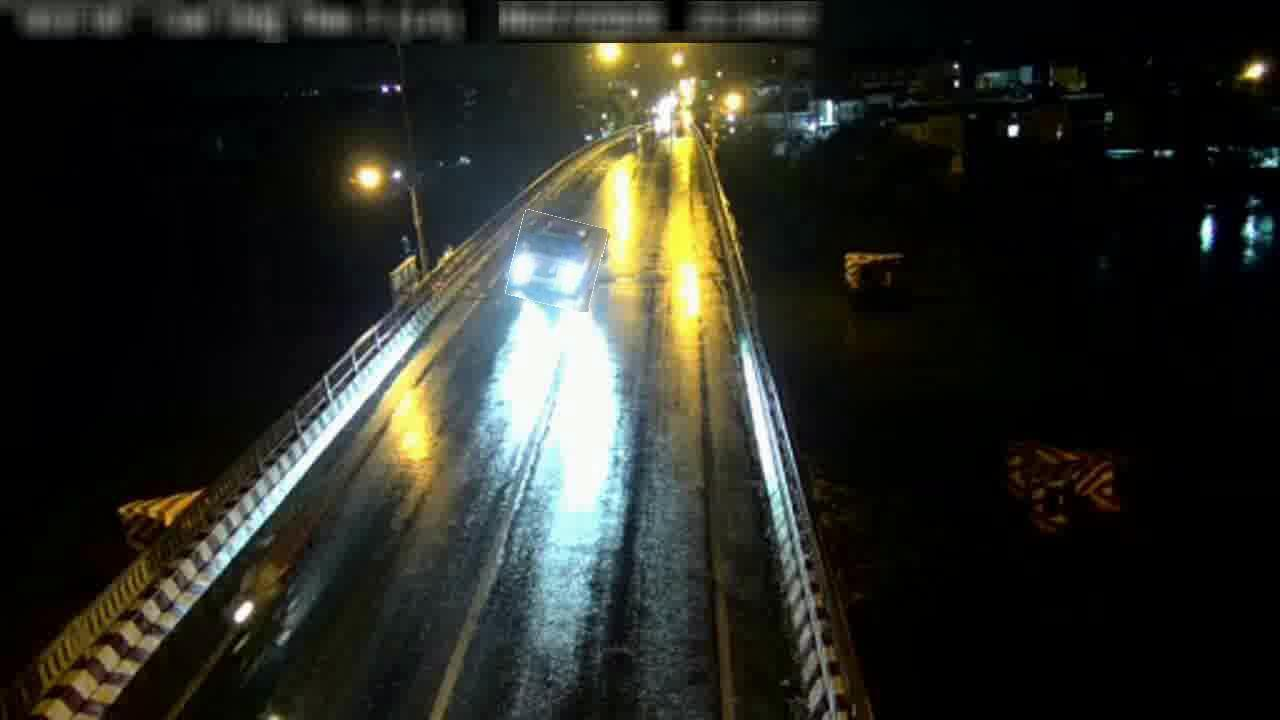car: (510, 214, 604, 309)
